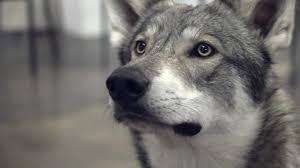Wolf: (104, 0, 300, 168)
